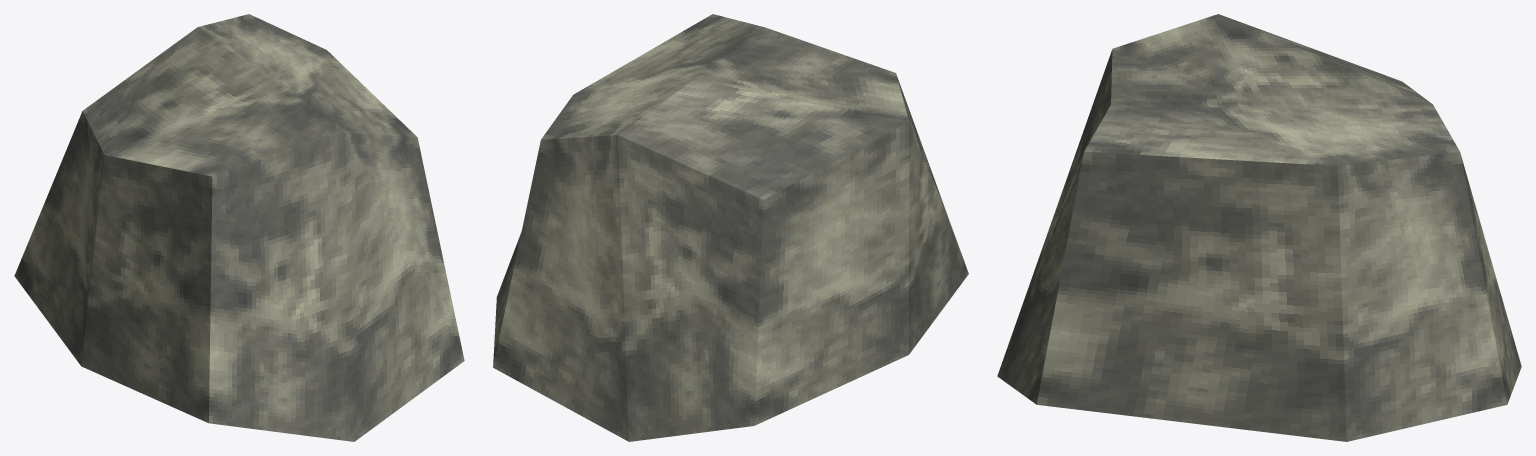
File: Stone_B1.fbx
3 renders of one model, left to right at view 1: azimuth 30°, elevation 25°; view 2: azimuth 150°, elevation 25°; view 3: azimuth 270°, elevation 25°, orthographic. The views are drawn at different scales.
Parts seen in each view (by area): view 1: Stone_B1; view 2: Stone_B1; view 3: Stone_B1.
Part boxes in pixels (<box>): Stone_B1: <box>14,14,464,441</box>; Stone_B1: <box>493,14,968,441</box>; Stone_B1: <box>997,14,1521,441</box>.
Size of the model in its own units: 0.5041 by 0.3526 by 0.5726.
